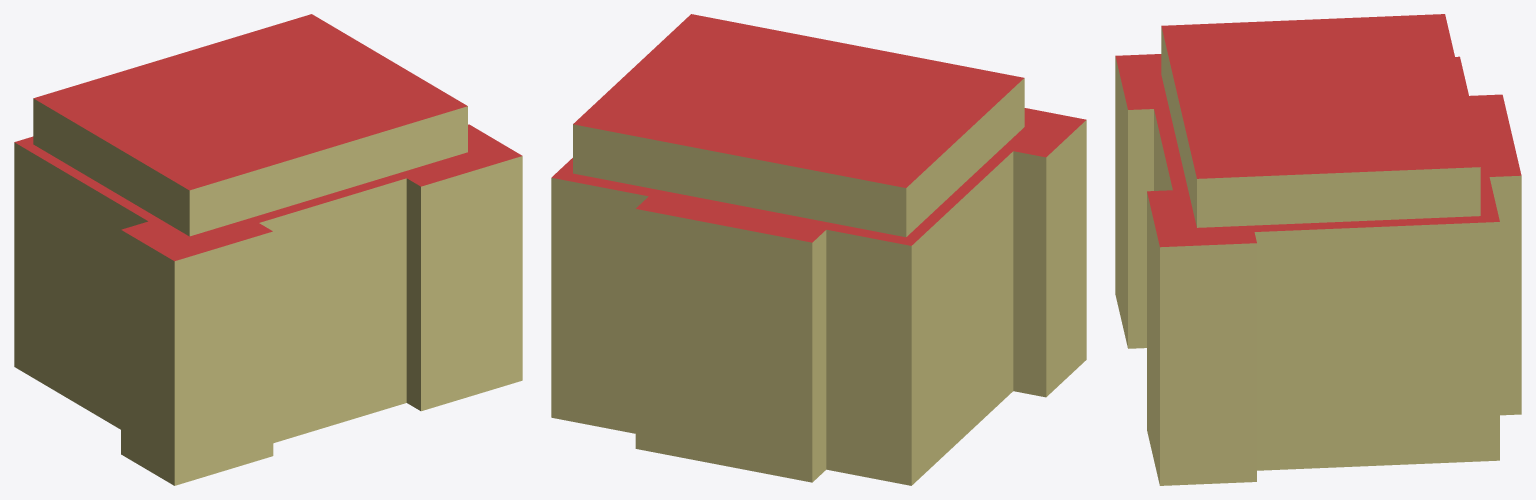
The picture shows the model from 3 angles, left to right: view 1: azimuth 30°, elevation 25°; view 2: azimuth 150°, elevation 25°; view 3: azimuth 270°, elevation 25°; orthographic projection. The views are drawn at different scales.
Parts seen in each view (by area): view 1: group_6, group_4, group_5, group_3; view 2: group_6, group_4, group_5, group_3; view 3: group_6, group_4, group_5, group_3.
Part boxes in pixels (x1,y1,x2,y2): group_6: [14, 142, 522, 485]; group_4: [33, 14, 467, 190]; group_5: [33, 98, 467, 236]; group_3: [14, 124, 522, 261]; group_6: [551, 120, 1086, 485]; group_4: [573, 14, 1023, 187]; group_5: [573, 78, 1024, 237]; group_3: [552, 108, 1086, 245]; group_6: [1115, 56, 1521, 485]; group_4: [1161, 14, 1480, 178]; group_5: [1161, 26, 1480, 227]; group_3: [1115, 54, 1521, 247].
Size of the model in its own units: 19.7 by 17.3 by 13.53.
